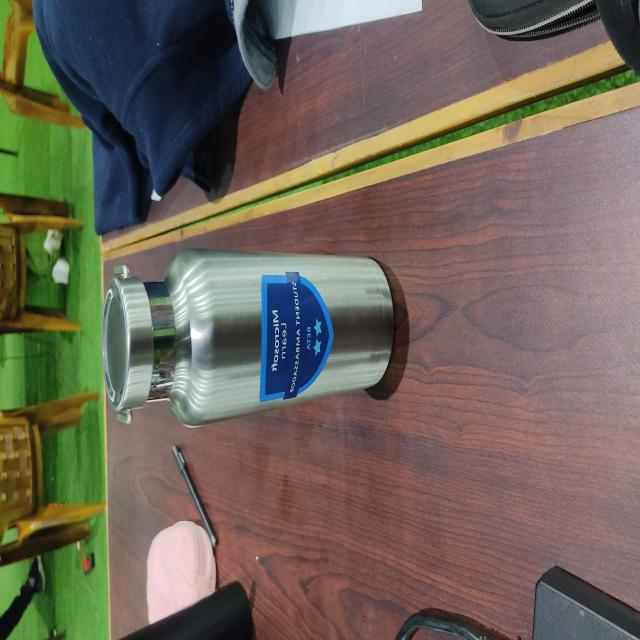Pringles: (102, 246, 396, 429)
